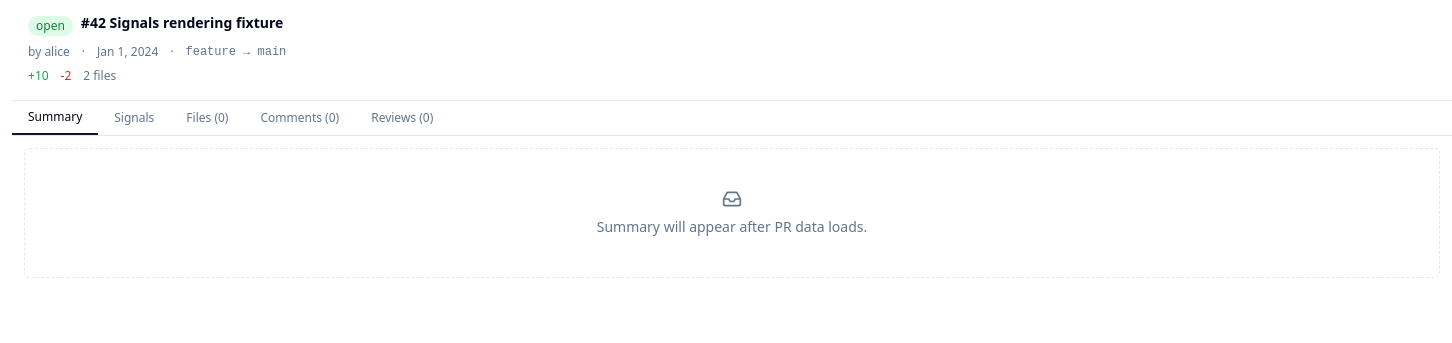
Scenario: PRViewer signals tab › renders loading state
Click the button "Signals". click: [134, 118]
box: [98, 101, 170, 135]
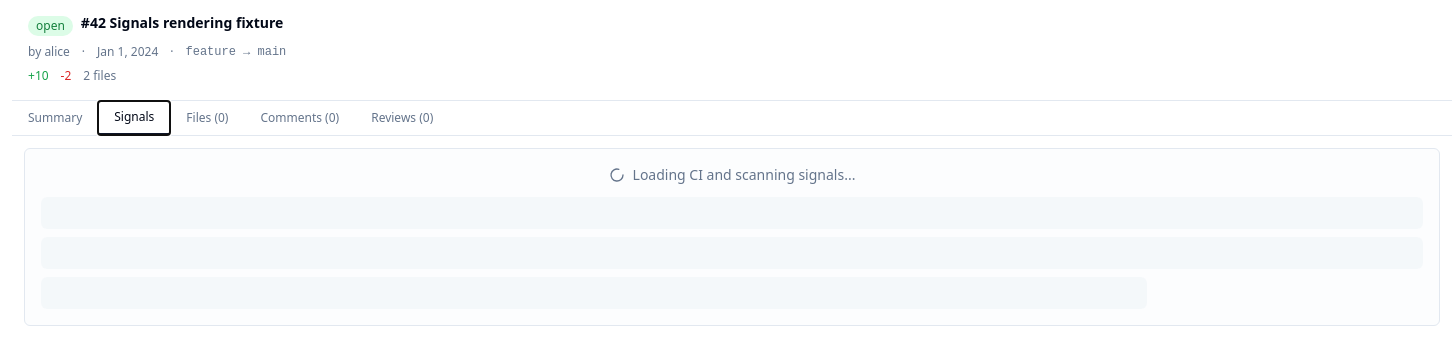
Now the text "Loading CI and scanning signals..." is shown, box [632, 165, 855, 185]
